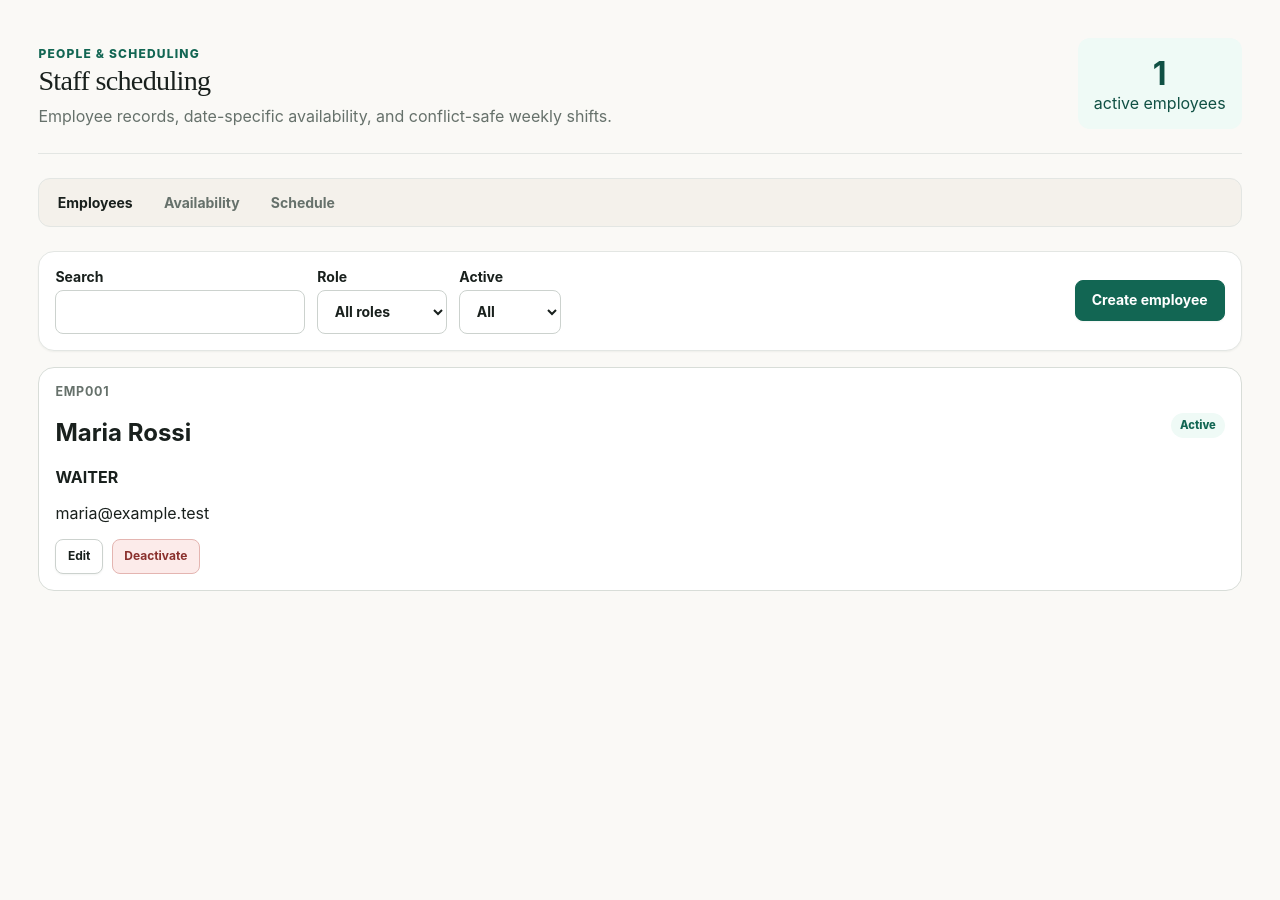
Test case: staff page › shows the future-shift conflict when employee deactivation is rejected
The image size is (1280, 900).
Step 1. Click the button "Deactivate" → (156, 557), box [112,539,200,574]
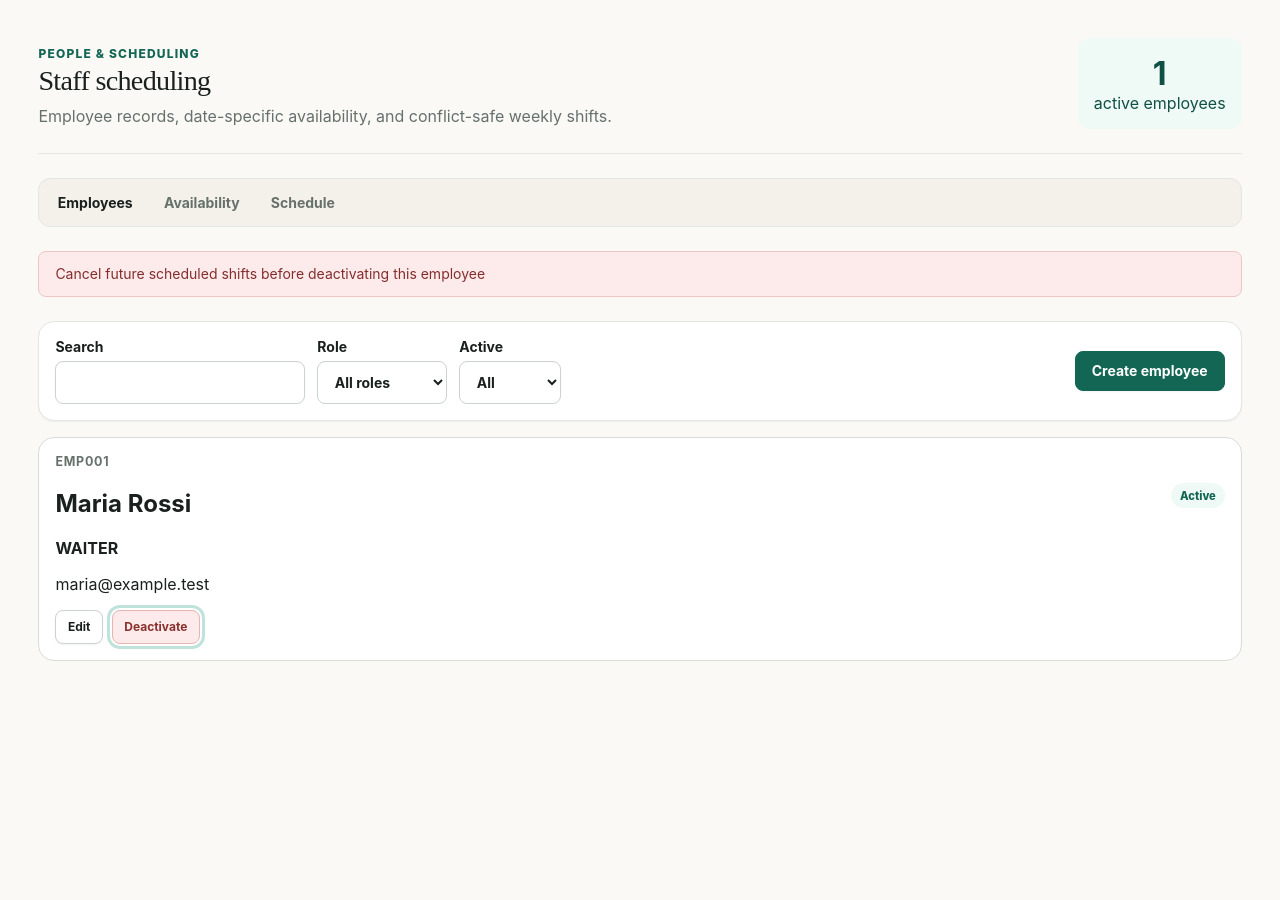
Expected: the message reads "Cancel future scheduled shifts before deactivating this employee", [55,265,485,282]
